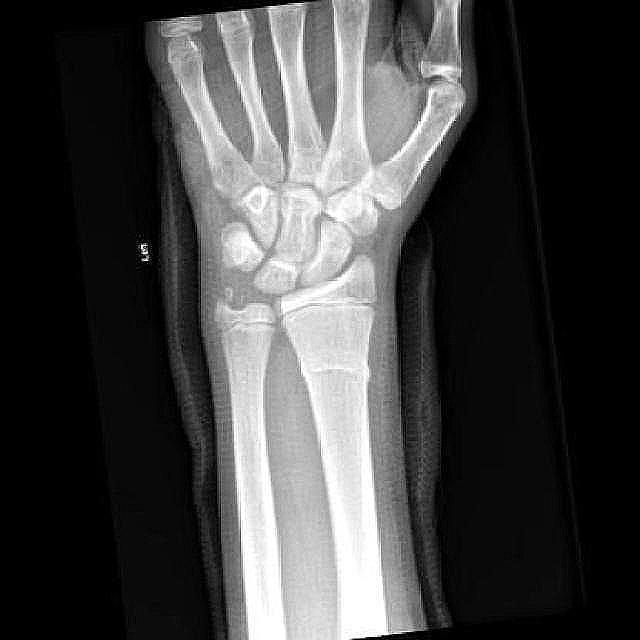bone: (298, 356, 370, 386)
